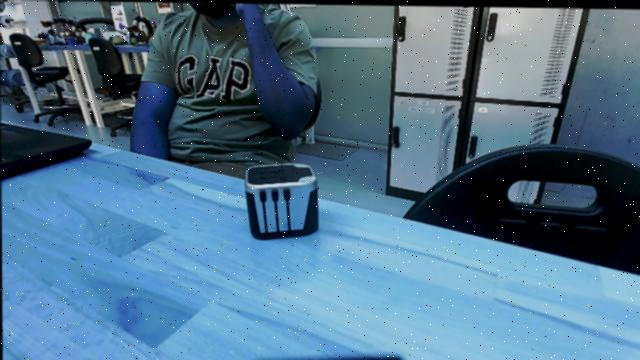adapter: (236, 152, 324, 242)
